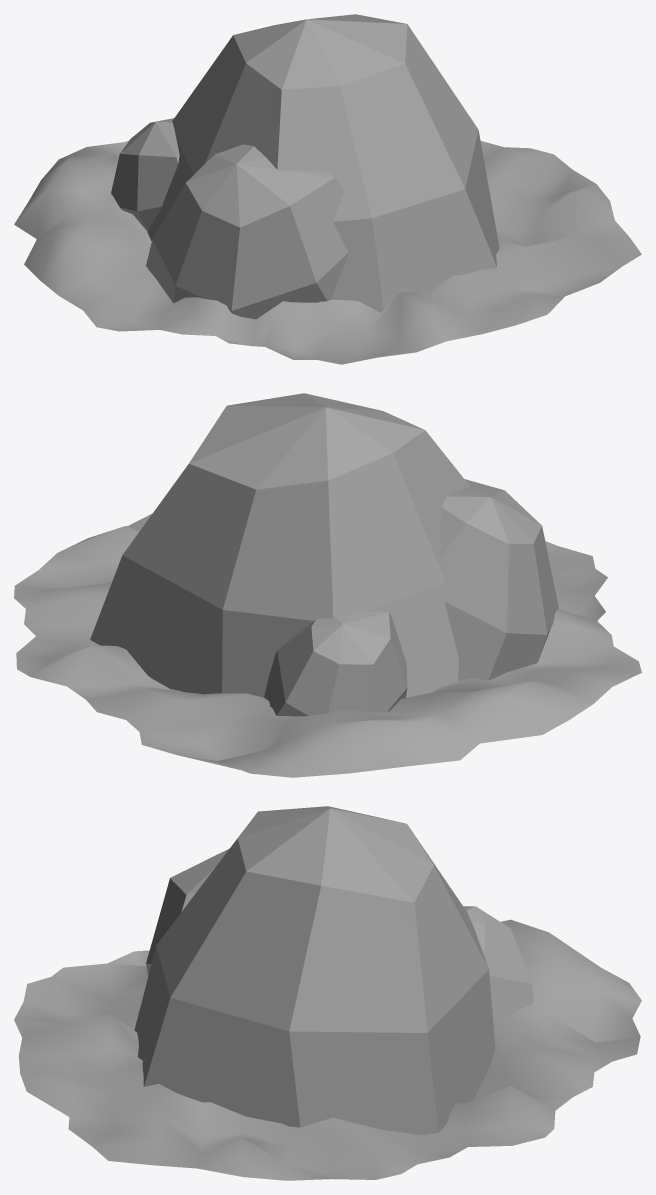
Rendered from rochergris.FBX.
3 views of the same model, one above another, from view 1: azimuth 30°, elevation 25°; view 2: azimuth 150°, elevation 25°; view 3: azimuth 270°, elevation 25° (orthographic). The views are drawn at different scales.
Visible parts, largest first — view 1: Box001, Plane001, Box002, Box003; view 2: Box001, Plane001, Box002, Box003; view 3: Box001, Plane001, Box003, Box002.
Boxes of the visible parts, <box> form: Box001: <box>147,14,499,312</box>; Plane001: <box>14,140,641,364</box>; Box002: <box>146,144,348,319</box>; Box003: <box>111,118,179,230</box>; Box001: <box>90,393,470,697</box>; Plane001: <box>14,513,641,777</box>; Box002: <box>440,479,558,681</box>; Box003: <box>264,610,407,716</box>; Box001: <box>134,806,495,1135</box>; Plane001: <box>14,919,641,1180</box>; Box003: <box>463,906,533,1022</box>; Box002: <box>146,848,229,975</box>.
Bounding box in the file's own units: 96.15 × 43.58 × 93.51.
